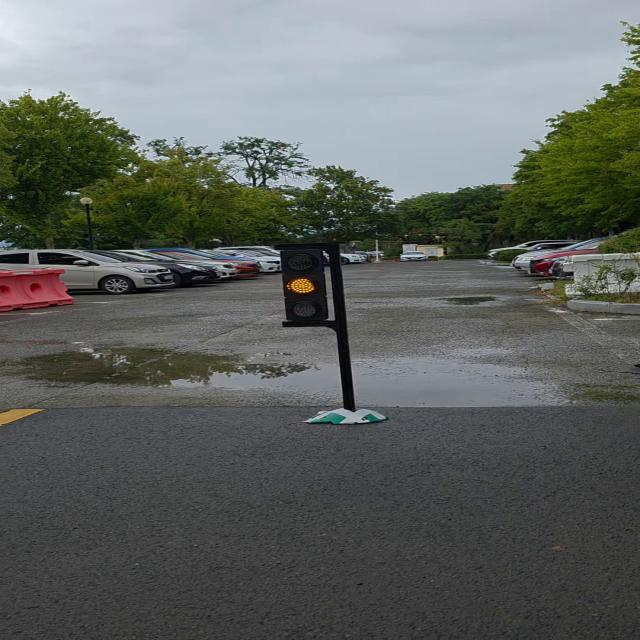yellow: (273, 241, 342, 335)
